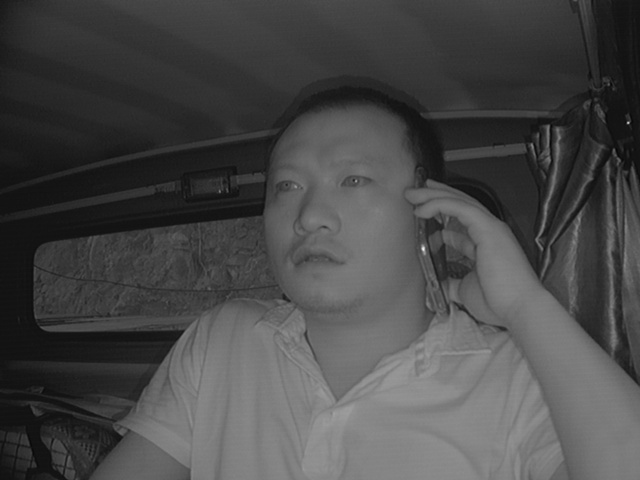hand: (405, 173, 525, 320)
